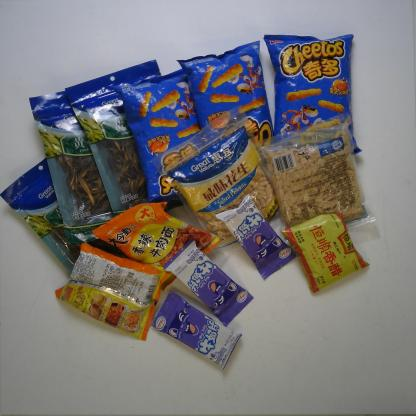Candy: (163, 238, 253, 326), (148, 292, 244, 368), (218, 195, 296, 278)
Dried Food: (0, 147, 165, 292), (64, 60, 189, 219), (27, 84, 148, 239)
Dried Fruit: (149, 103, 284, 254), (263, 113, 377, 234)
Instant Noodles: (90, 196, 221, 291), (53, 242, 169, 340)
Puffed Food: (110, 67, 217, 209), (264, 29, 363, 158), (178, 41, 274, 156)
Seasoner: (279, 211, 371, 294)
